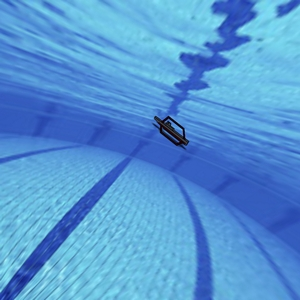submarine: (140, 101, 199, 161)
